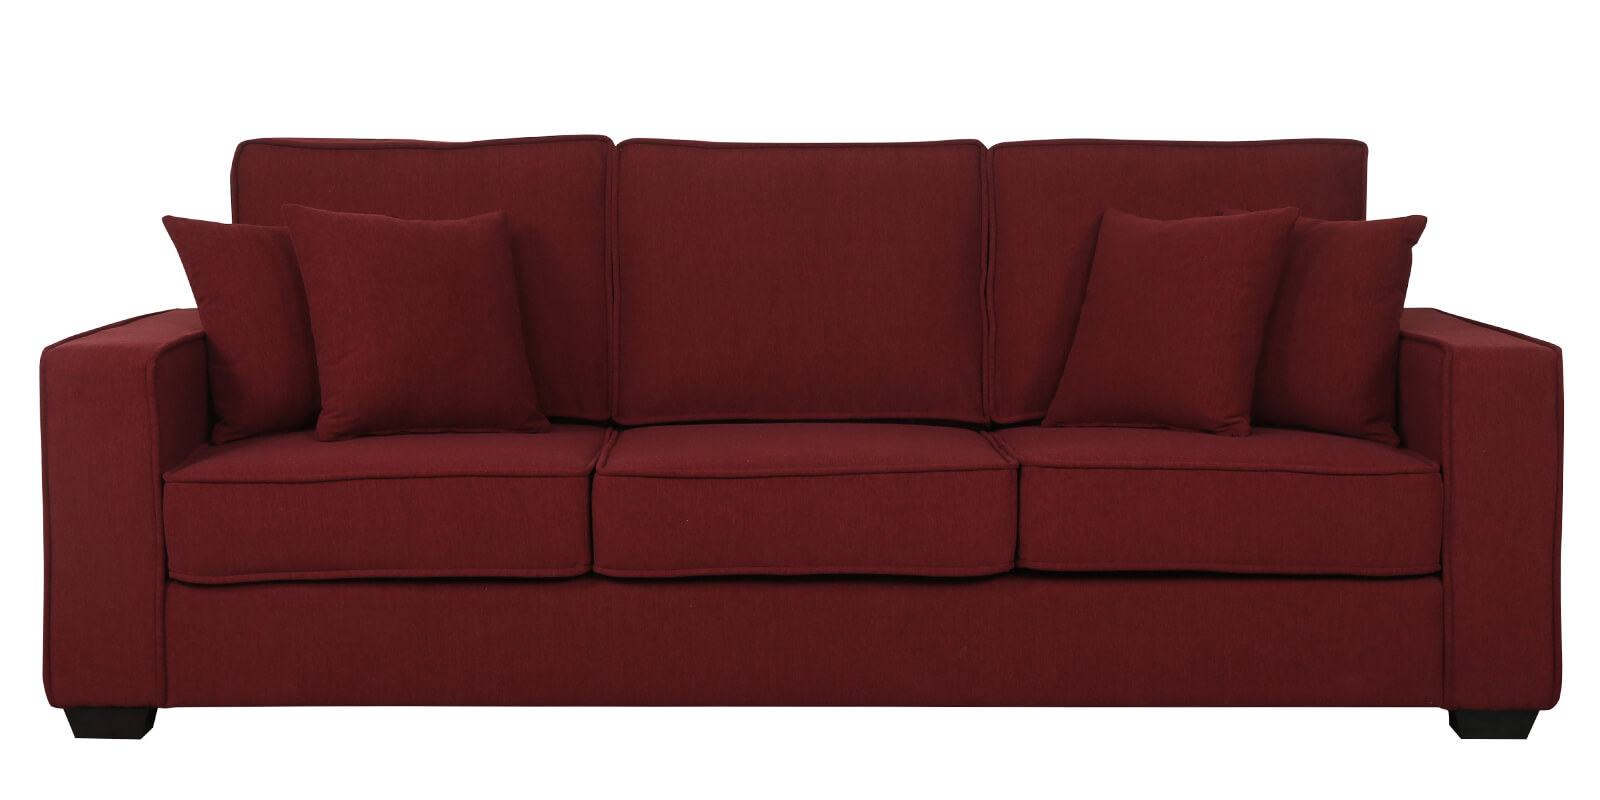Hugo Three Seater Sofa in Garnet Red Colour by CasaCraft: (14, 101, 1600, 756)
